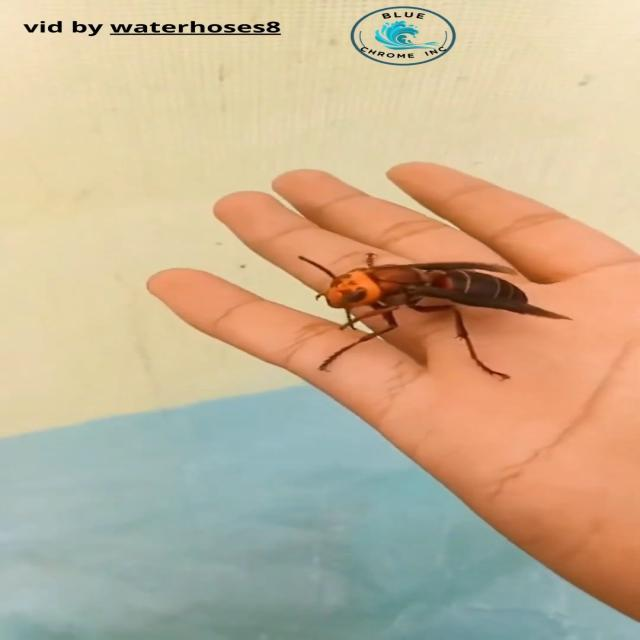Hornets: (292, 252, 573, 381)
